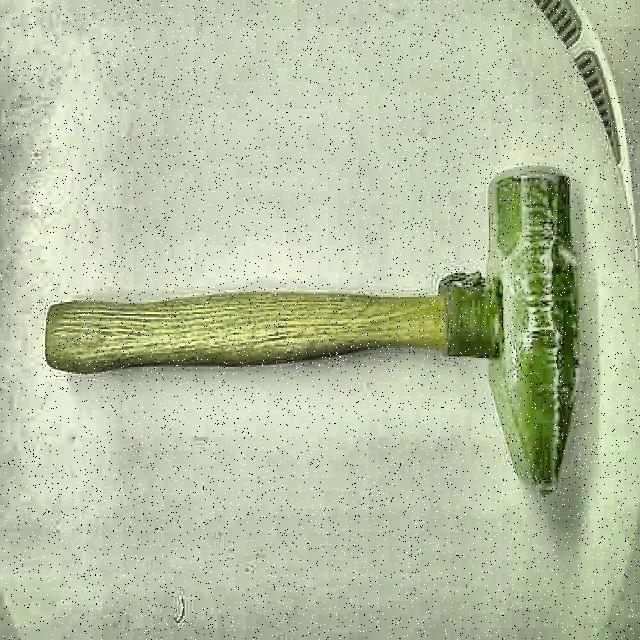hammer: (42, 164, 582, 497)
